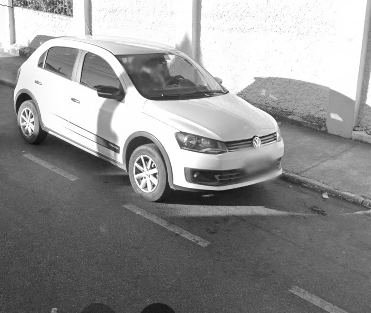car: (9, 16, 293, 208)
